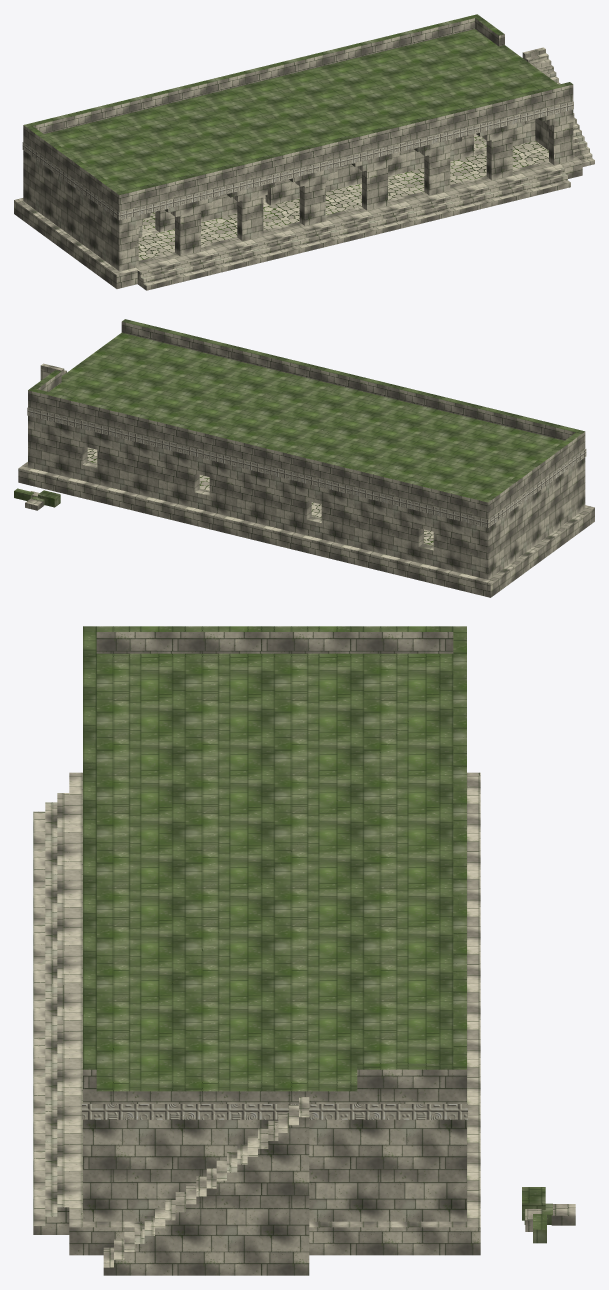
File: ruin-arcade-b.ruins-v1.lod0.glb
3 renders of one model, top to bottom at view 1: azimuth 30°, elevation 25°; view 2: azimuth 150°, elevation 25°; view 3: azimuth 270°, elevation 25°, orthographic. The views are drawn at different scales.
Visible parts, largest first — view 1: ruin-arcade-b; view 2: ruin-arcade-b; view 3: ruin-arcade-b.
Boxes of the visible parts, x1,y1,x2,y2 form: ruin-arcade-b: (14,14,594,290); ruin-arcade-b: (14,319,594,597); ruin-arcade-b: (33,626,575,1275).
Bounding box in the file's own units: 32.8 × 5.8 × 15.82.
4 materials, 4 textured.
